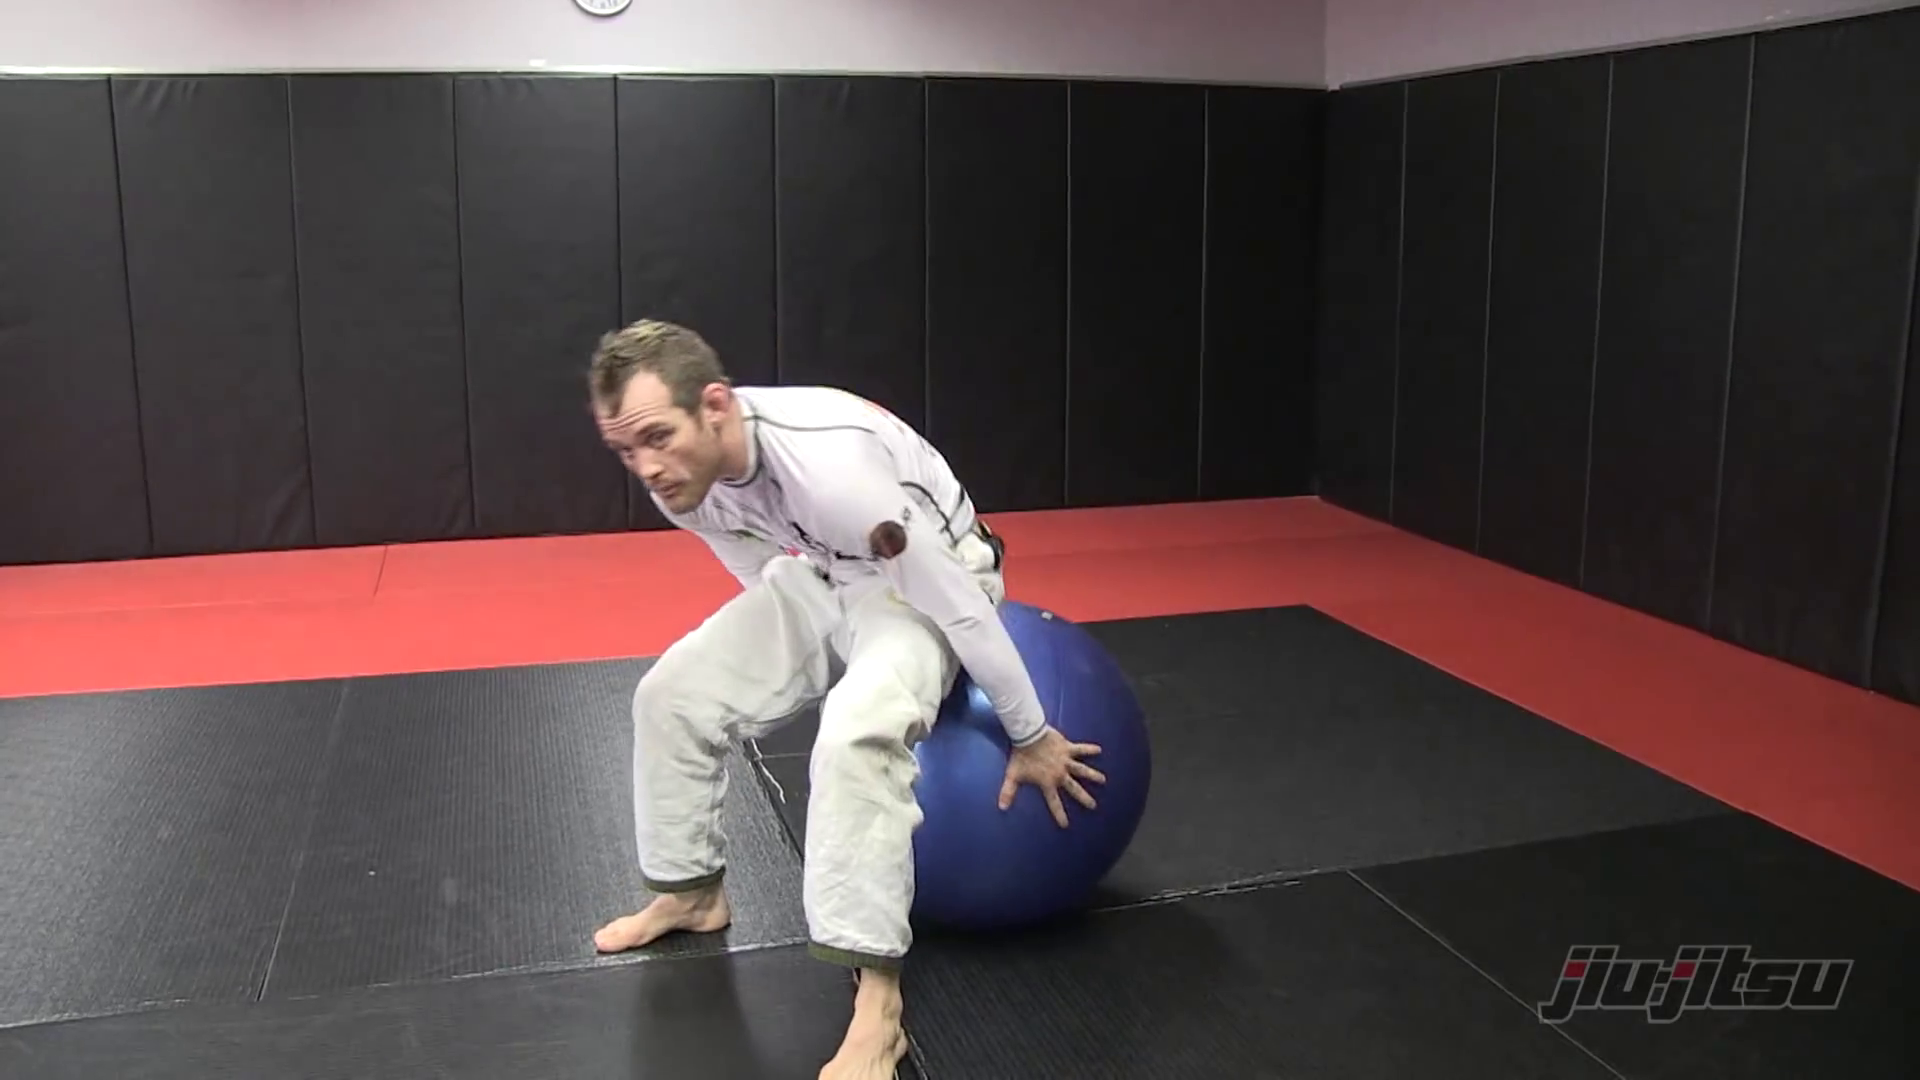yogaball: (778, 587, 1178, 953)
